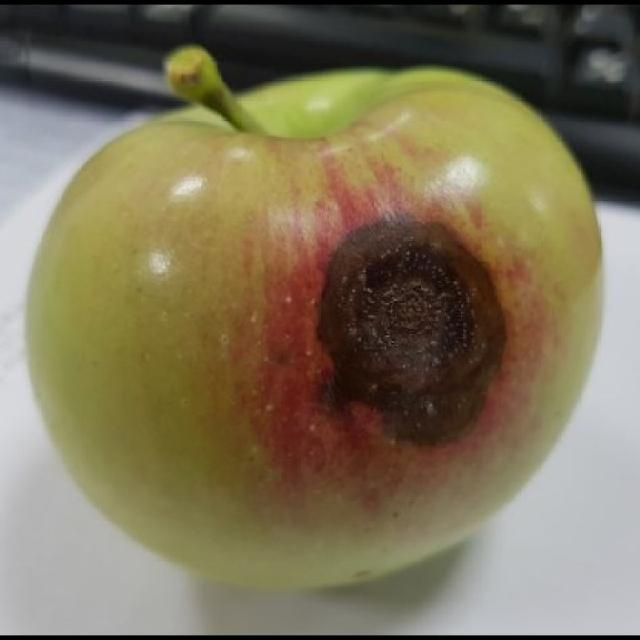Rotten Apple: (19, 62, 608, 596)
